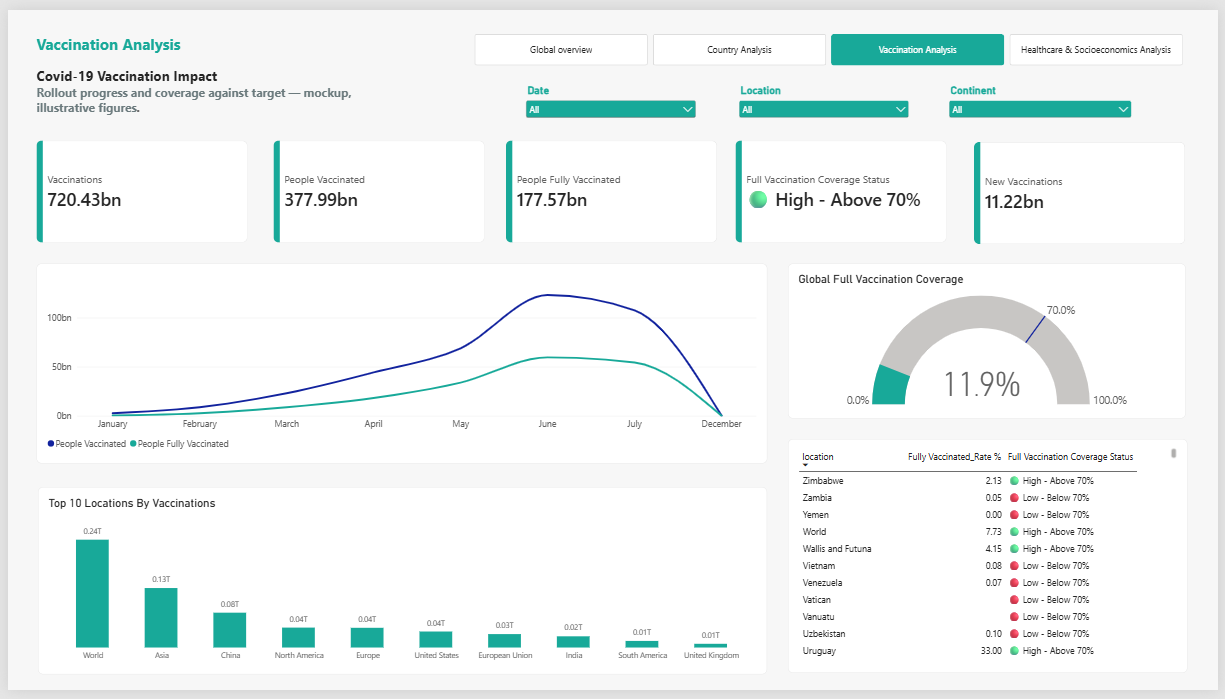

Layout of this report page (visuals, bound fields, positions):
{"tool":"powerbi","page":{"name":"Vaccination Analysis","canvas":[1920,1080],"ordinal":2},"visuals":[{"type":"cardVisual","fields":{"Data":["calculations.Vaccinations"]},"box":[45.6,206.6,335,162.5],"z":0},{"type":"cardVisual","fields":{"Data":["calculations.People Vaccinated"]},"box":[422.3,206.6,335,162.5],"z":1},{"type":"cardVisual","fields":{"Data":["calculations.People Fully Vaccinated"]},"box":[789.9,206.6,335,162.5],"z":2},{"type":"cardVisual","fields":{"Data":["calculations.Full Vaccination Coverage Status"]},"box":[1154.4,206.6,335,162.5],"z":3},{"type":"cardVisual","fields":{"Data":["calculations.New Vaccinations"]},"box":[1534.3,208.6,335,162.5],"z":4},{"type":"lineChart","fields":{"Category":["Sheet1.date.Variation.Date Hierarchy.Month"],"Y":["calculations.People Vaccinated","calculations.People Fully Vaccinated"]},"box":[45.7,402.9,1160,317.1],"z":5},{"type":"gauge","fields":{"Y":["calculations.Global Full Vaccination Coverage"]},"box":[1237.1,402.9,631.4,245.7],"z":7},{"type":"columnChart","title":"Top 10 Locations By Vaccinations","fields":{"Category":["Sheet1.location"],"Y":["calculations.Vaccinations"]},"box":[48.6,757.1,1157.1,297.1],"z":8},{"type":"tableEx","fields":{"Values":["Sheet1.location","calculations.Fully Vaccinated_Rate %","calculations.Full Vaccination Coverage Status"]},"box":[1237.1,680,634.3,371.4],"z":9},{"type":"pageNavigator","box":[740,37.1,1127.3,50],"z":10},{"type":"slicer","fields":{"Values":["Sheet1.date"]},"box":[817.1,117.1,280,55],"z":11},{"type":"slicer","fields":{"Values":["Sheet1.continent"]},"box":[1488.6,117.1,300,61.4],"z":12},{"type":"slicer","fields":{"Values":["Sheet1.location"]},"box":[1154.3,117.1,280,55],"z":13},{"type":"textbox","box":[45.7,37.1,580,137.1],"z":14}]}

Visuals, with their boxes in screenshot pixels (x1, y1, x2, y2), scaled from the page's 1920x1080 canvas onto the 1225x699 screenshot:
cardVisual - calculations.Vaccinations: 29,134,243,239
cardVisual - calculations.People Vaccinated: 269,134,483,239
cardVisual - calculations.People Fully Vaccinated: 504,134,718,239
cardVisual - calculations.Full Vaccination Coverage Status: 737,134,950,239
cardVisual - calculations.New Vaccinations: 979,135,1193,240
lineChart - Sheet1.date.Variation.Date Hierarchy.Month x calculations.People Vaccinated: 29,261,769,466
gauge - calculations.Global Full Vaccination Coverage: 789,261,1192,420
"Top 10 Locations By Vaccinations" columnChart: 31,490,769,682
tableEx - Sheet1.location x calculations.Fully Vaccinated_Rate %: 789,440,1194,680
pageNavigator: 472,24,1191,56
slicer - Sheet1.date: 521,76,700,111
slicer - Sheet1.continent: 950,76,1141,116
slicer - Sheet1.location: 736,76,915,111
textbox: 29,24,399,113
